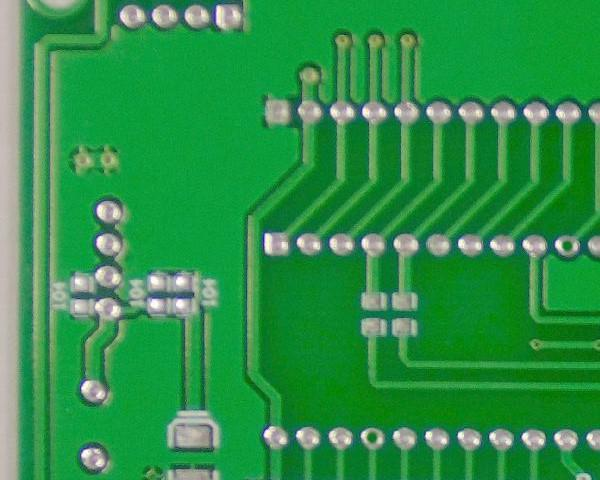missing hole: (356, 422, 392, 457), (552, 231, 585, 260)
